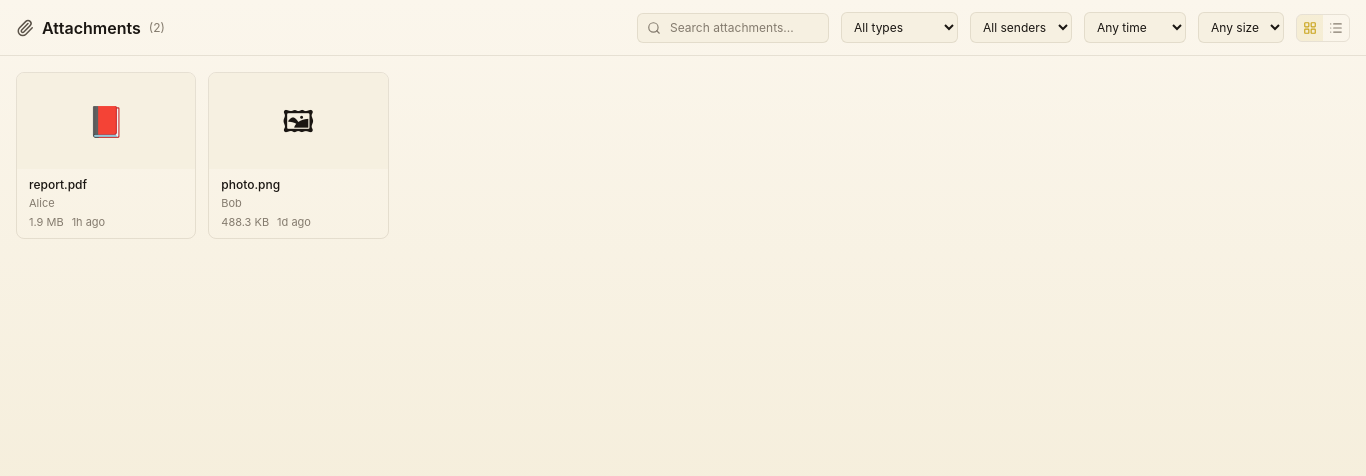
AttachmentLibrary › passes the type filter to the DB query
The width and height of the screenshot is (1366, 476).
Check: the text "report.pdf" is shown, box [29, 177, 87, 192]
Select "Images" in the 1st dropdown showing "All types": (900, 28) [841, 12, 958, 43]
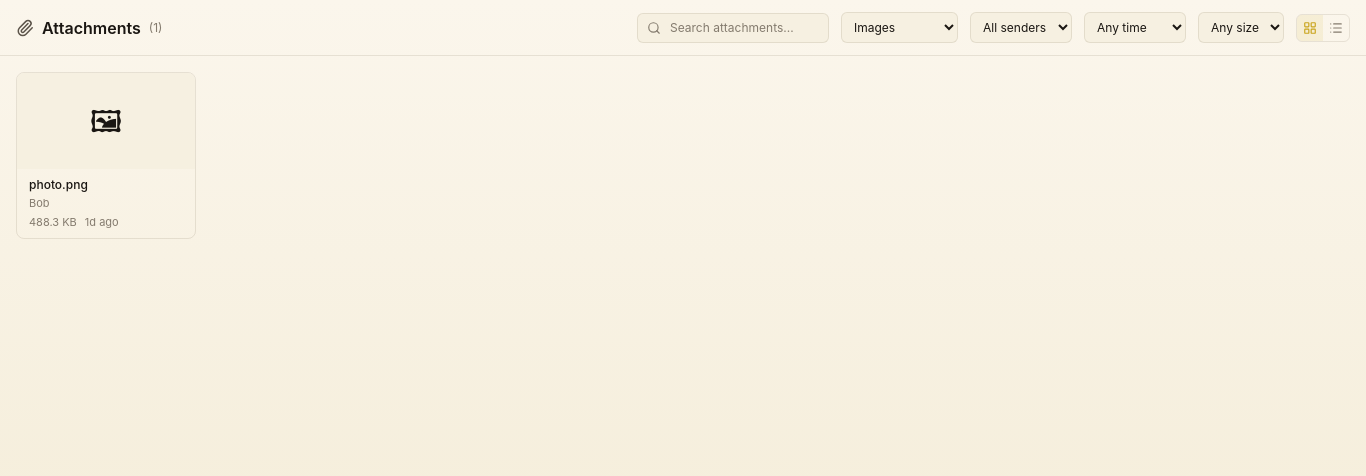
Check: the text "photo.png" is shown, box [29, 177, 88, 192]
Check: the button "report.pdf" is gone
